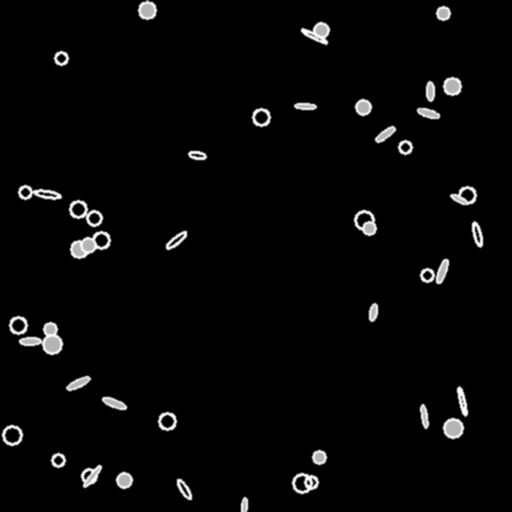pseudomonas: (300, 27, 328, 45), (164, 230, 188, 250), (82, 464, 102, 488), (65, 375, 91, 391), (374, 125, 396, 143), (175, 478, 193, 500), (101, 396, 127, 410), (435, 258, 449, 284), (33, 188, 61, 200), (416, 106, 440, 120), (456, 387, 468, 415), (471, 222, 483, 246), (450, 193, 468, 205), (188, 150, 206, 160), (368, 303, 378, 321), (420, 405, 428, 427), (426, 82, 434, 100), (19, 338, 41, 344), (295, 103, 315, 109), (241, 498, 247, 512)
synechocystis: (444, 419, 462, 437), (3, 426, 21, 444), (355, 211, 373, 229), (293, 474, 311, 492), (43, 335, 61, 353), (71, 241, 87, 257), (70, 201, 86, 217), (459, 187, 475, 203), (93, 232, 109, 248), (253, 109, 269, 125), (139, 2, 155, 18), (444, 78, 460, 94), (10, 317, 26, 333), (159, 413, 175, 429), (356, 100, 370, 114), (82, 469, 96, 483), (314, 23, 328, 37), (117, 473, 131, 487), (81, 238, 95, 252), (87, 211, 101, 225), (19, 186, 31, 198), (399, 141, 411, 153), (52, 454, 64, 466), (44, 323, 56, 335), (55, 52, 67, 64), (305, 476, 317, 488), (363, 222, 375, 234), (313, 451, 325, 463), (437, 7, 449, 19), (421, 269, 433, 281)
